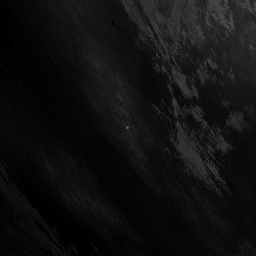Target: (125, 126, 129, 130)
